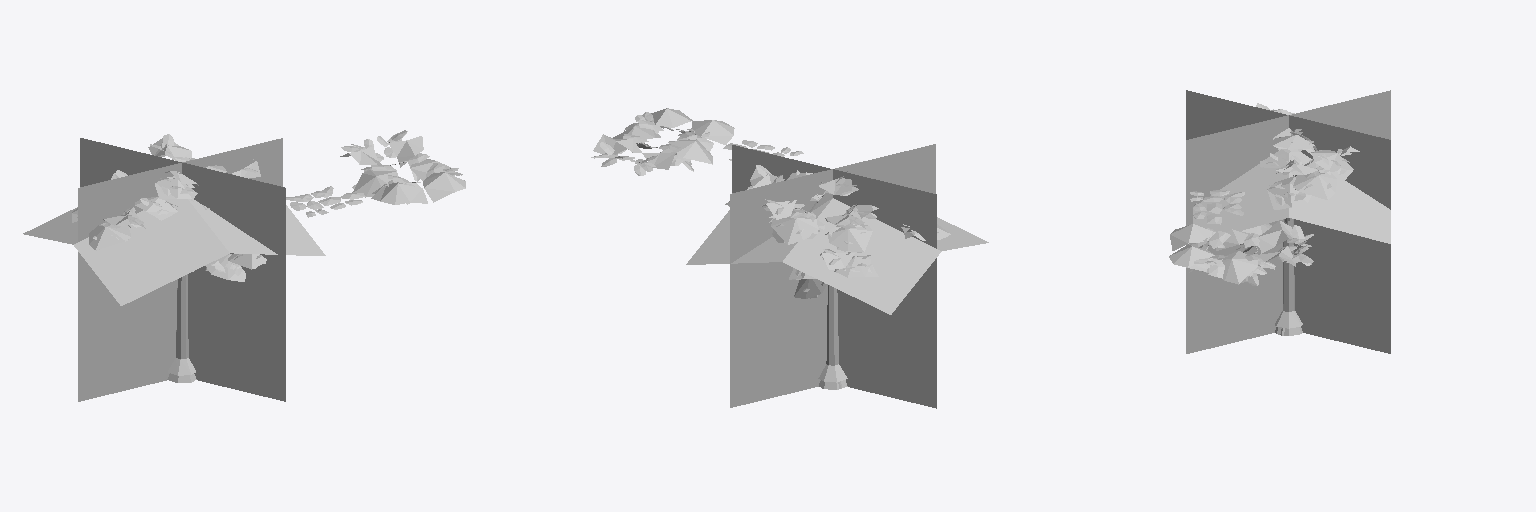
Rendered from tree_1.obj.
3 renders of one model, left to right at view 1: azimuth 30°, elevation 25°; view 2: azimuth 150°, elevation 25°; view 3: azimuth 270°, elevation 25°, orthographic.
Parts seen in each view (by area): view 1: Quercus_A_LOD2_X_Quercus_A_LOD2, Quercus_A_Collision_X_Quercus_A_Collision, Branch_3_LOD1_X_Branch_3_LOD1, Branch_3B_LOD1_X_Branch_3B_LOD1, Plane.026_X_Branch_2B_LOD1, Branch_2_LOD1_X_Branch_2_LOD1, Branch_1B_LOD1_X_Branch_1B_LOD1; view 2: Quercus_A_LOD2_X_Quercus_A_LOD2, Quercus_A_Collision_X_Quercus_A_Collision, Branch_3.007_X_Branch_2_LOD1, Plane.032_X_Branch_2B_LOD1, Branch_3_LOD1_X_Branch_3_LOD1, Branch_2_LOD1_X_Branch_2_LOD1, Branch_3B_LOD1_X_Branch_3B_LOD1; view 3: Quercus_A_LOD2_X_Quercus_A_LOD2, Quercus_A_Collision_X_Quercus_A_Collision, Branch_3.010_X_Branch_2_LOD1, Branch_2B_LOD1_X_Branch_2B_LOD1, Branch_3_LOD1_X_Branch_3_LOD1, Branch_3B_LOD1_X_Branch_3B_LOD1, Plane.006_X_Branch_3_LOD1, Branch_1_LOD1_X_Branch_1_LOD1, Branch_4.002_X_Branch_3B_LOD1.
Boxes of the visible parts, <box> form: Quercus_A_LOD2_X_Quercus_A_LOD2: <box>23,138,325,401</box>; Quercus_A_Collision_X_Quercus_A_Collision: <box>168,274,195,375</box>; Branch_3_LOD1_X_Branch_3_LOD1: <box>371,183,427,204</box>; Branch_3B_LOD1_X_Branch_3B_LOD1: <box>423,172,465,202</box>; Plane.026_X_Branch_2B_LOD1: <box>89,225,130,250</box>; Branch_2_LOD1_X_Branch_2_LOD1: <box>352,170,398,197</box>; Branch_1B_LOD1_X_Branch_1B_LOD1: <box>388,136,423,167</box>; Quercus_A_LOD2_X_Quercus_A_LOD2: <box>686,144,988,408</box>; Quercus_A_Collision_X_Quercus_A_Collision: <box>818,285,847,381</box>; Branch_3.007_X_Branch_2_LOD1: <box>771,209,817,244</box>; Plane.032_X_Branch_2B_LOD1: <box>825,225,872,251</box>; Branch_3_LOD1_X_Branch_3_LOD1: <box>691,120,734,144</box>; Branch_2_LOD1_X_Branch_2_LOD1: <box>668,139,712,164</box>; Branch_3B_LOD1_X_Branch_3B_LOD1: <box>650,108,692,127</box>; Quercus_A_LOD2_X_Quercus_A_LOD2: <box>1186,90,1390,353</box>; Quercus_A_Collision_X_Quercus_A_Collision: <box>1275,218,1302,328</box>; Branch_3.010_X_Branch_2_LOD1: <box>1293,173,1336,199</box>; Branch_2B_LOD1_X_Branch_2B_LOD1: <box>1218,251,1257,284</box>; Branch_3_LOD1_X_Branch_3_LOD1: <box>1170,224,1214,250</box>; Branch_3B_LOD1_X_Branch_3B_LOD1: <box>1169,244,1214,271</box>; Plane.006_X_Branch_3_LOD1: <box>1267,176,1311,209</box>; Branch_1_LOD1_X_Branch_1_LOD1: <box>1258,220,1292,253</box>; Branch_4.002_X_Branch_3B_LOD1: <box>1311,150,1353,181</box>.
Bounding box in the file's own units: 20.45 × 11.74 × 11.04.